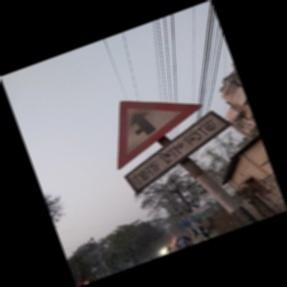Side-road-right: (116, 101, 232, 197)
